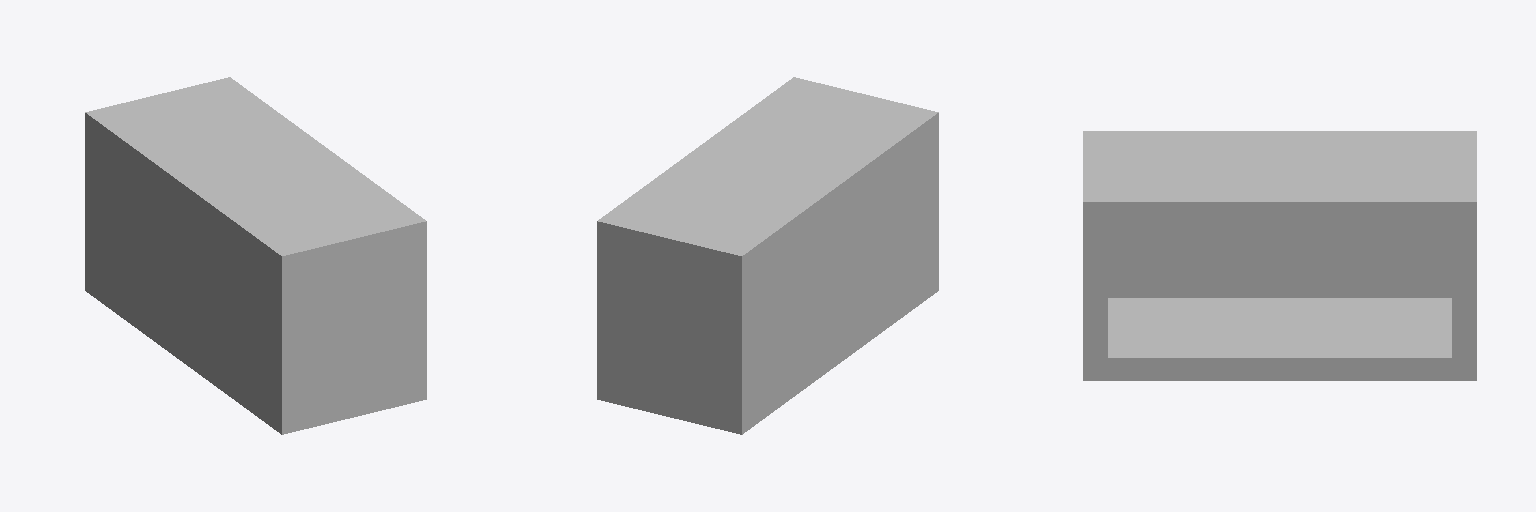
The model's file is microwave_body_collider.obj.
3 renders of one model, left to right at view 1: azimuth 30°, elevation 25°; view 2: azimuth 150°, elevation 25°; view 3: azimuth 270°, elevation 25°, orthographic.
Visible parts, largest first — view 1: Cube.003_Cube.001, Cube.004_Cube.001, Cube.000_Cube.001, Cube.002_Cube.001; view 2: Cube.003_Cube.001, Cube.000_Cube.001, Cube.001, Cube.002_Cube.001, Cube.004_Cube.001; view 3: Cube.000_Cube.001, Cube.003_Cube.001, Cube.002_Cube.001, Cube.004_Cube.001, Cube.001.
Boxes of the visible parts, x1,y1,x2,y2 form: Cube.003_Cube.001: [85, 107, 302, 433]; Cube.004_Cube.001: [270, 215, 426, 434]; Cube.000_Cube.001: [85, 77, 425, 275]; Cube.002_Cube.001: [85, 273, 426, 432]; Cube.003_Cube.001: [721, 107, 938, 434]; Cube.000_Cube.001: [597, 79, 937, 275]; Cube.001: [597, 219, 753, 433]; Cube.002_Cube.001: [597, 269, 938, 433]; Cube.004_Cube.001: [783, 77, 938, 298]; Cube.000_Cube.001: [1083, 131, 1476, 223]; Cube.003_Cube.001: [1083, 131, 1476, 297]; Cube.002_Cube.001: [1083, 298, 1476, 380]; Cube.004_Cube.001: [1083, 131, 1107, 380]; Cube.001: [1452, 131, 1476, 380].
Size of the model in its own units: 0.68 by 0.8 by 1.6.